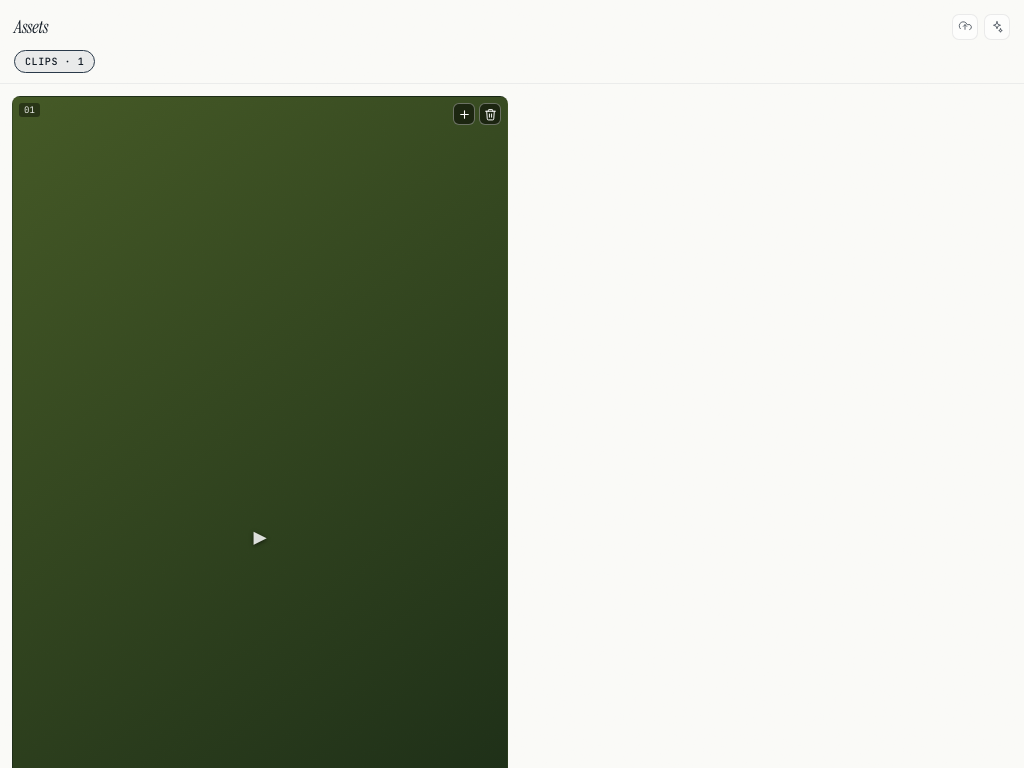
Scenario: LibraryTab — delete an asset (I18) › warns how many clips reference the asset (does not silently break the timeline)
What coordinates should you click on to do the following:
click the button named "delete asset"
I would click on:
 (490, 114)
Its box is [479,103,501,125].
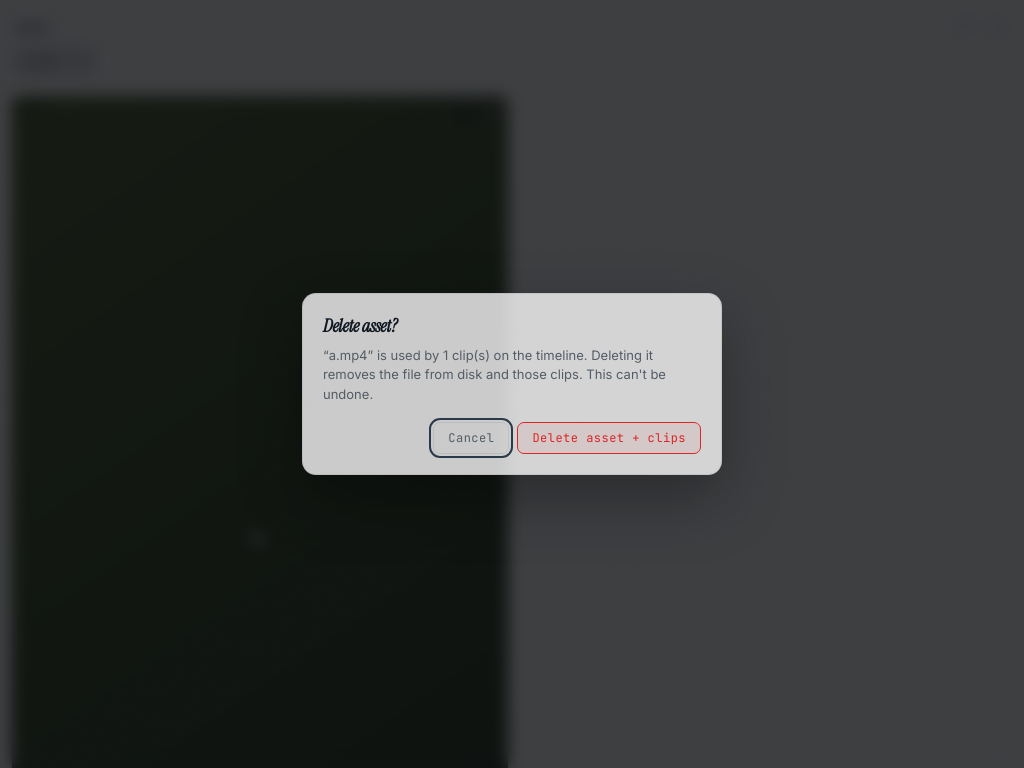
expect the text "used by 1 clip" is shown: met, box [323,347,666,402]
expect the button "Delete asset + clips" is shown: met, box [517,422,701,454]
